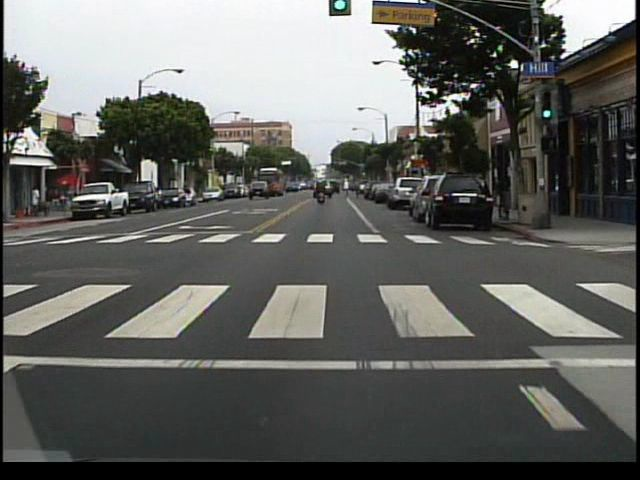person: (30, 182, 44, 219), (315, 183, 328, 210)
